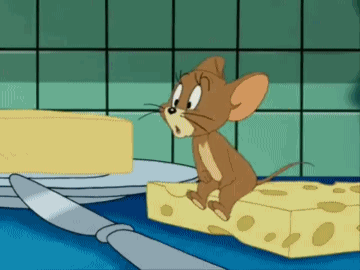jerry: (137, 54, 317, 220)
